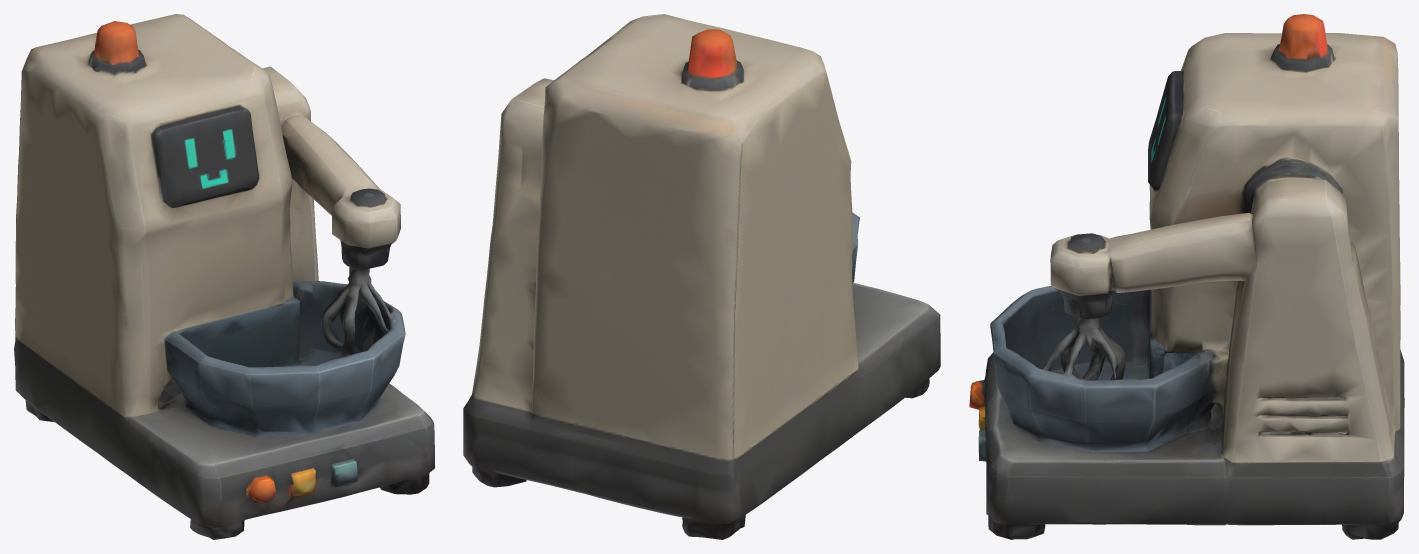
The model's file is Meshy_AI_RoboMixer_0422180702_texture.fbx.
3 views of the same model, side by side, from view 1: azimuth 30°, elevation 25°; view 2: azimuth 150°, elevation 25°; view 3: azimuth 270°, elevation 25° (orthographic). The views are drawn at different scales.
Parts seen in each view (by area): view 1: Mesh_0; view 2: Mesh_0; view 3: Mesh_0.
Part boxes in pixels (left/top/right/bottom): Mesh_0: left=14, top=14, right=434, bottom=539; Mesh_0: left=463, top=14, right=940, bottom=539; Mesh_0: left=969, top=14, right=1404, bottom=539.
Size of the model in its own units: 127 by 200 by 183.
Materials: 1 (1 with a texture image).
